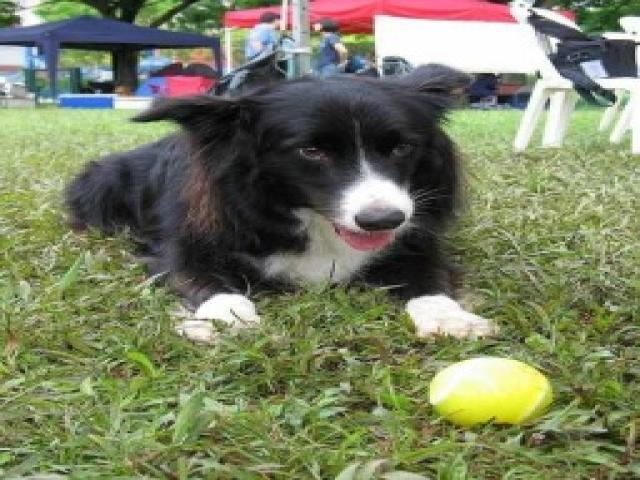tennis-ball: (427, 359, 553, 430)
